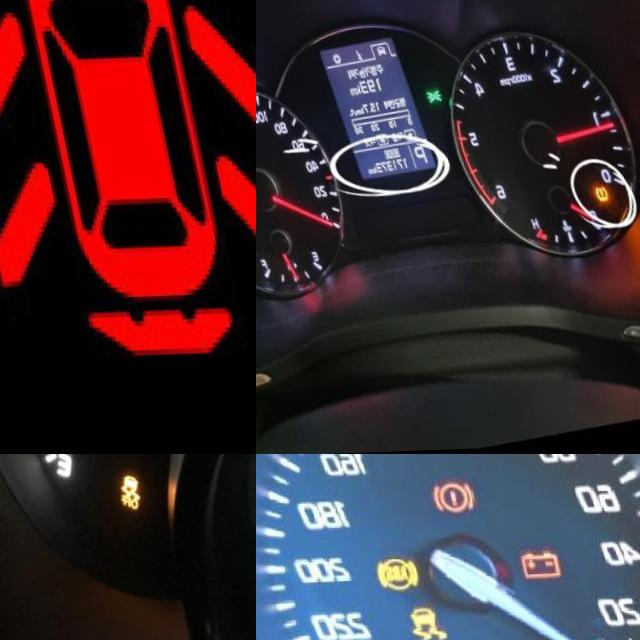SideLamp: (413, 91, 432, 106)
